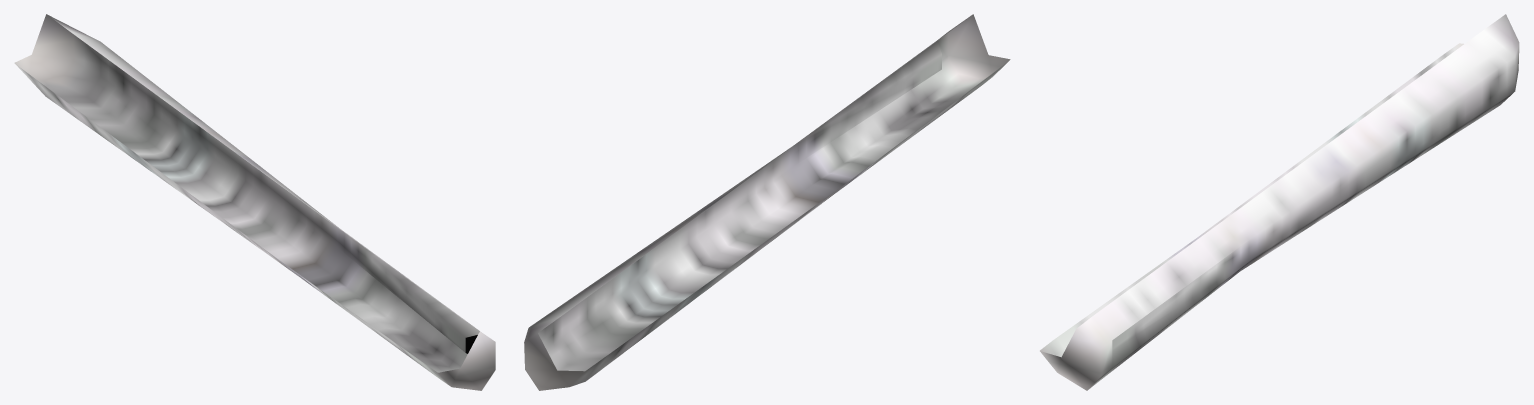
3 views of the same model, side by side, from view 1: azimuth 30°, elevation 25°; view 2: azimuth 150°, elevation 25°; view 3: azimuth 330°, elevation 25° (orthographic).
Visible parts, largest first — view 1: wg_r_a_st; view 2: wg_r_a_st; view 3: wg_r_a_st.
Part boxes in pixels (box(x1,y1,x2,y2)): wg_r_a_st: box(14, 14, 495, 390); wg_r_a_st: box(524, 14, 1010, 390); wg_r_a_st: box(1040, 14, 1519, 390).
Bounding box in the file's own units: 0.2238 × 0.2098 × 2.34.
2 materials, 2 textured.
